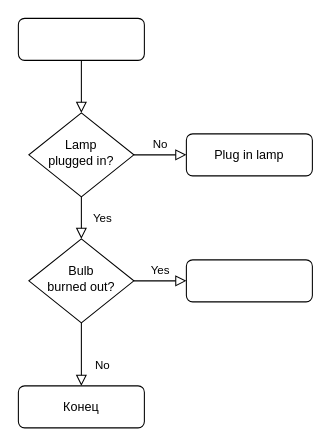
Image size: 331x446. Some labels were removed from this diagram. The centre of each missing label's shape, as x and y in pixels:
"Replace Bulb" goes at pixel 248 280.
"Начало" goes at pixel 80 38.
